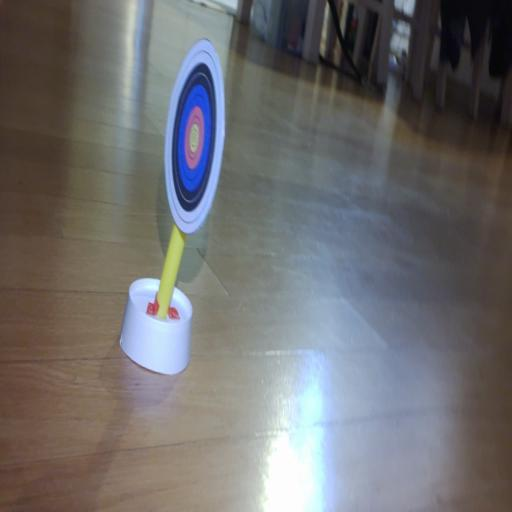target: (164, 39, 224, 234)
